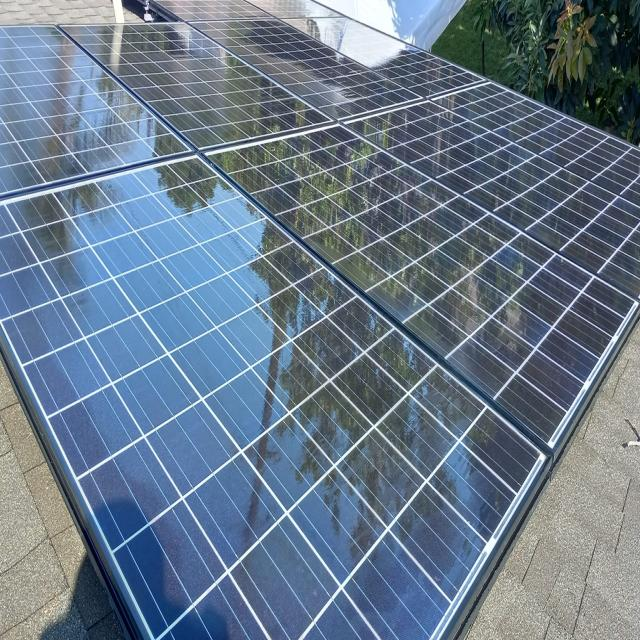clean-solar-panel: (0, 3, 640, 639)
